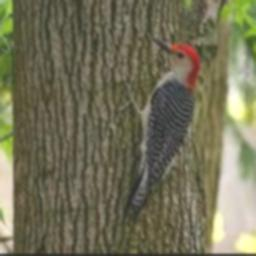Woodpecker: (119, 36, 200, 214)
